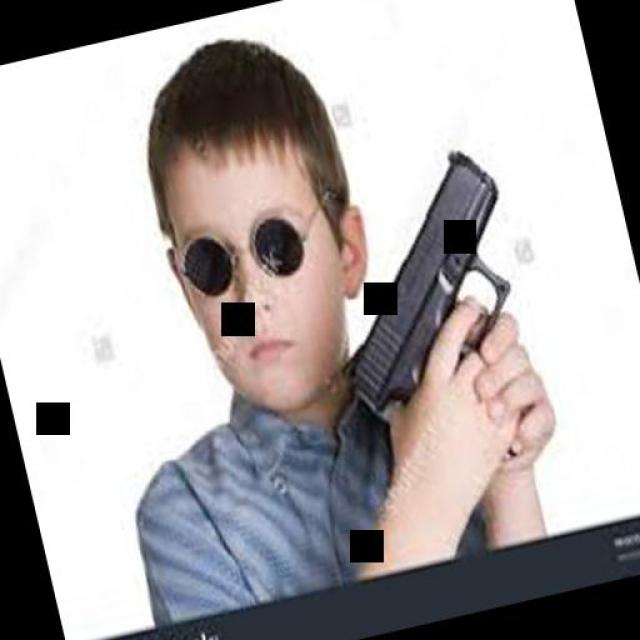gun: (297, 131, 554, 440)
